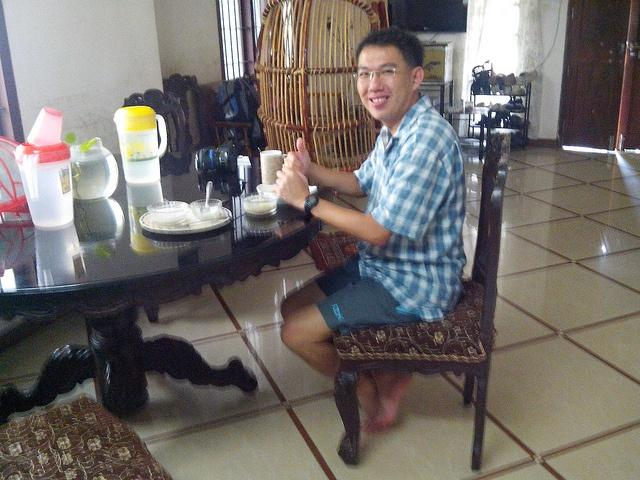Kursi: (332, 132, 511, 471)
